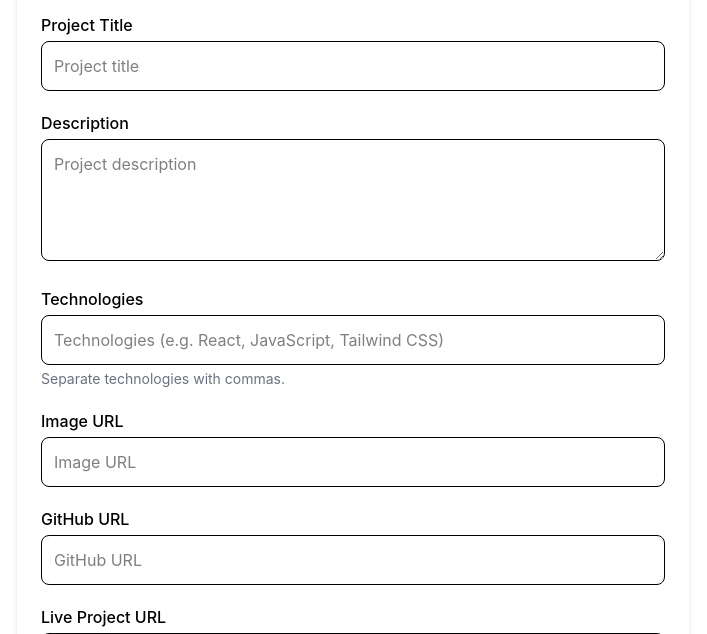
Scenario: ProjectForm › submits a new project
This screenshot has width=707, height=634.
In the field with placeholder "Project Title": (353, 66) [41,41,665,91], type "New Project"
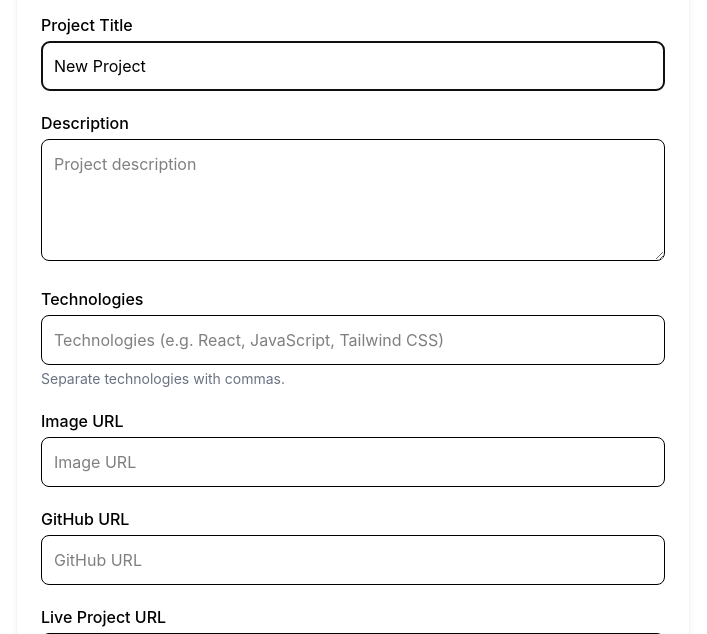
In the text box with placeholder "Project description": (353, 200) [41,139,665,261], type "A new project"
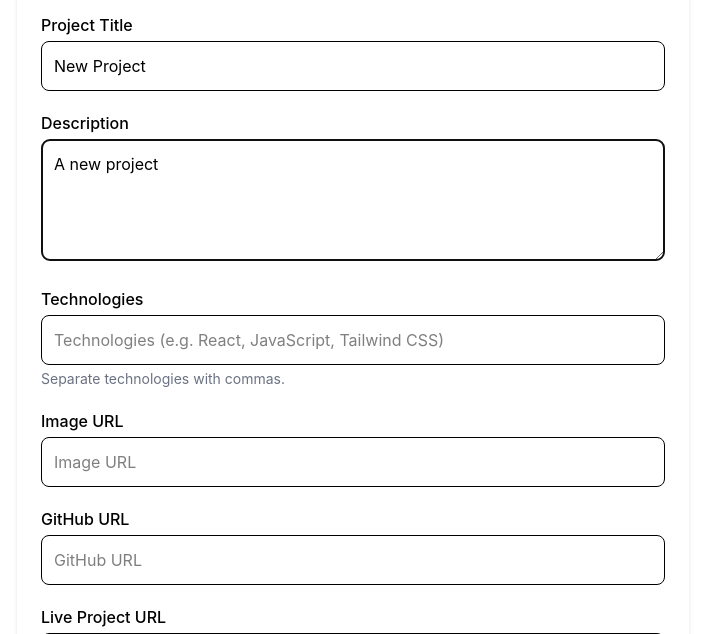
In the field with placeholder "Technologies (e.g. React, JavaScript, Tailwind CSS)": (353, 340) [41,315,665,365], type "React, JavaScript"
(page scrolled)
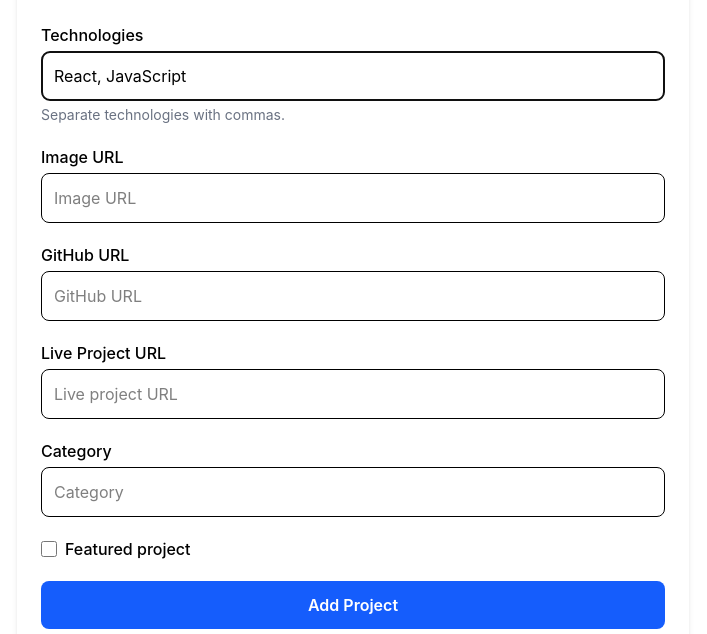
In the field with placeholder "Category": (353, 492) [41,467,665,517], type "Education"
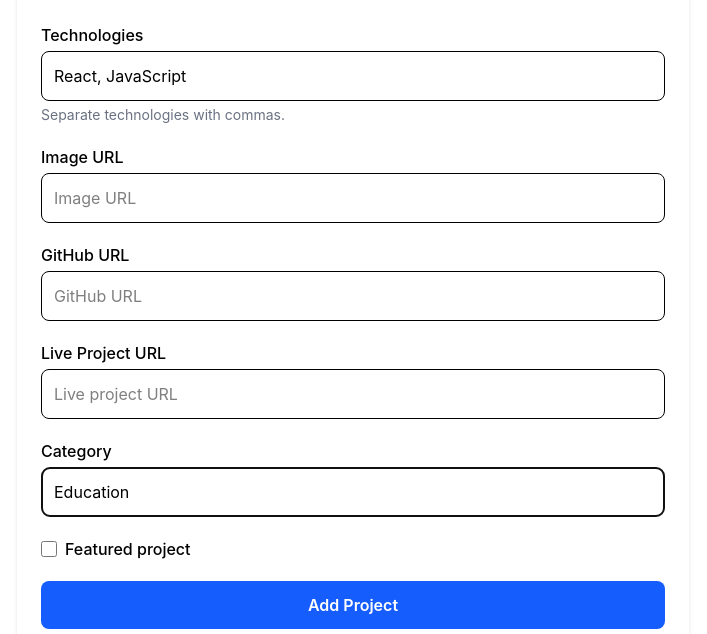
Click the button "Add Project": (353, 605) [41,581,665,629]
(page scrolled)
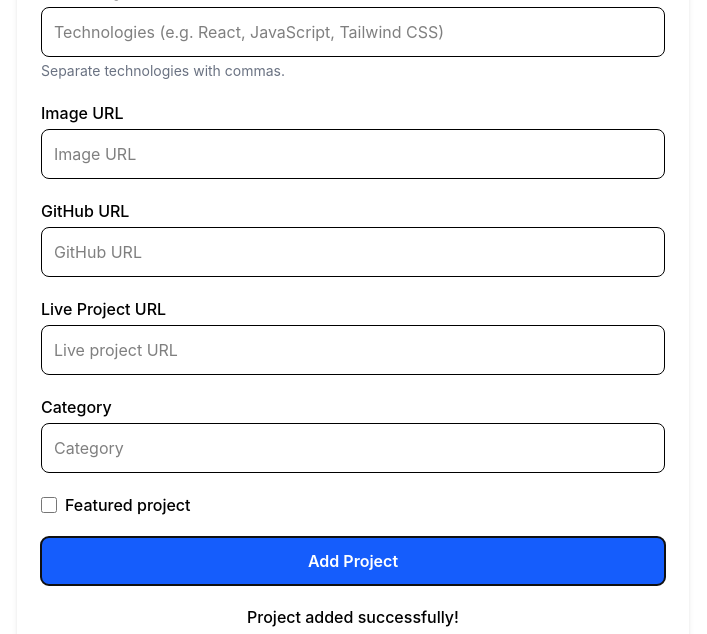
Now the text "Project added successfully!" is shown, box [247,607,459,627]
